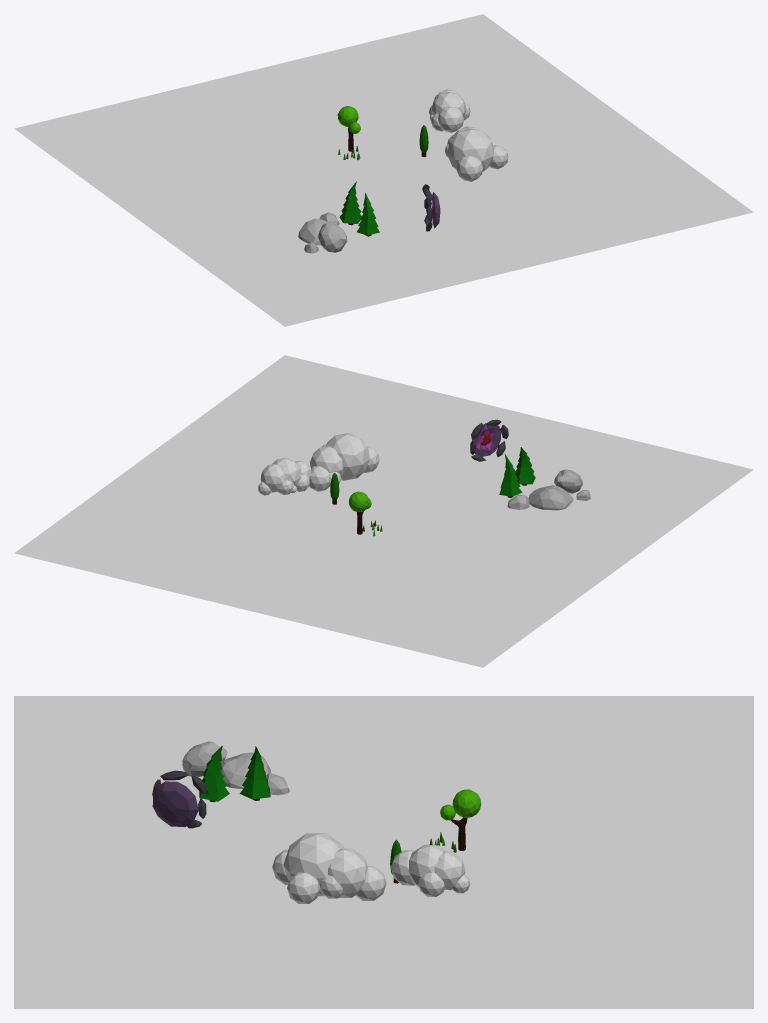
Rendered from Low-Poly_Models.dae.
The picture shows the model from 3 angles, top to bottom: view 1: azimuth 30°, elevation 25°; view 2: azimuth 150°, elevation 25°; view 3: azimuth 270°, elevation 25°; orthographic projection. The views are drawn at different scales.
Visible parts, largest first — view 1: Plane, Icosphere_016, Sphere_001, Cylinder_001, Icosphere_013, Icosphere_003, Icosphere_010, Cylinder; view 2: Plane, Icosphere_016, Sphere, Cylinder_011, Icosphere_017, Cylinder_001; view 3: Plane, Icosphere_016, Cylinder_011, Icosphere_017, Cylinder_001, Cylinder, Sphere_001, Icosphere_010, Sphere, Icosphere_015, Icosphere_007, Icosphere_012 (+2 smaller).
Part boxes in pixels (<box>): Plane: <box>14,14,753,326</box>; Icosphere_016: <box>447,128,493,171</box>; Sphere_001: <box>318,223,347,252</box>; Cylinder_001: <box>339,181,361,225</box>; Icosphere_013: <box>456,156,483,181</box>; Icosphere_003: <box>438,106,463,132</box>; Icosphere_010: <box>431,91,466,117</box>; Cylinder: <box>357,192,379,236</box>; Plane: <box>14,355,753,667</box>; Icosphere_016: <box>325,433,369,480</box>; Sphere: <box>528,485,573,510</box>; Cylinder_011: <box>472,423,500,456</box>; Icosphere_017: <box>310,446,343,477</box>; Cylinder_001: <box>499,453,522,497</box>; Plane: <box>14,696,753,1008</box>; Icosphere_016: <box>283,833,344,896</box>; Cylinder_011: <box>152,781,198,826</box>; Icosphere_017: <box>327,848,367,897</box>; Cylinder_001: <box>239,746,270,800</box>; Cylinder: <box>199,745,229,802</box>; Sphere_001: <box>182,741,227,777</box>; Icosphere_010: <box>408,844,446,887</box>; Sphere: <box>220,752,270,788</box>; Icosphere_015: <box>287,872,320,903</box>; Icosphere_007: <box>434,851,465,890</box>; Icosphere_012: <box>355,866,386,900</box>.
Bounding box in the file's own units: 47.01 × 5.46 × 47.01.
